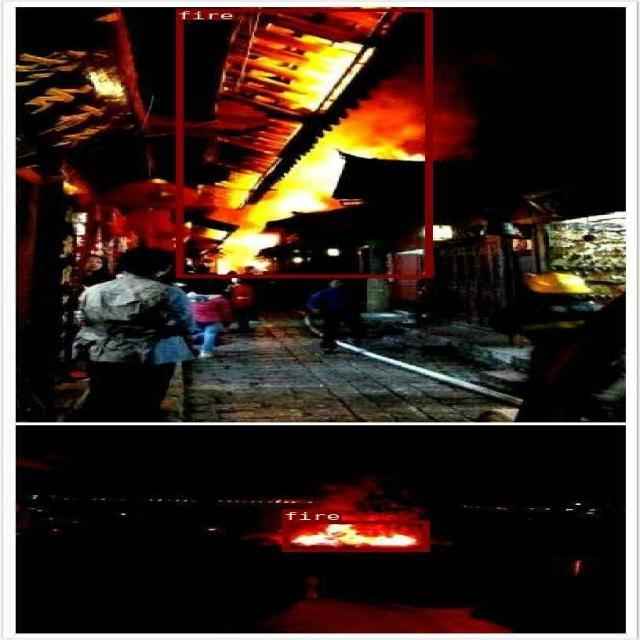fire: (176, 8, 431, 277), (281, 521, 427, 551)
